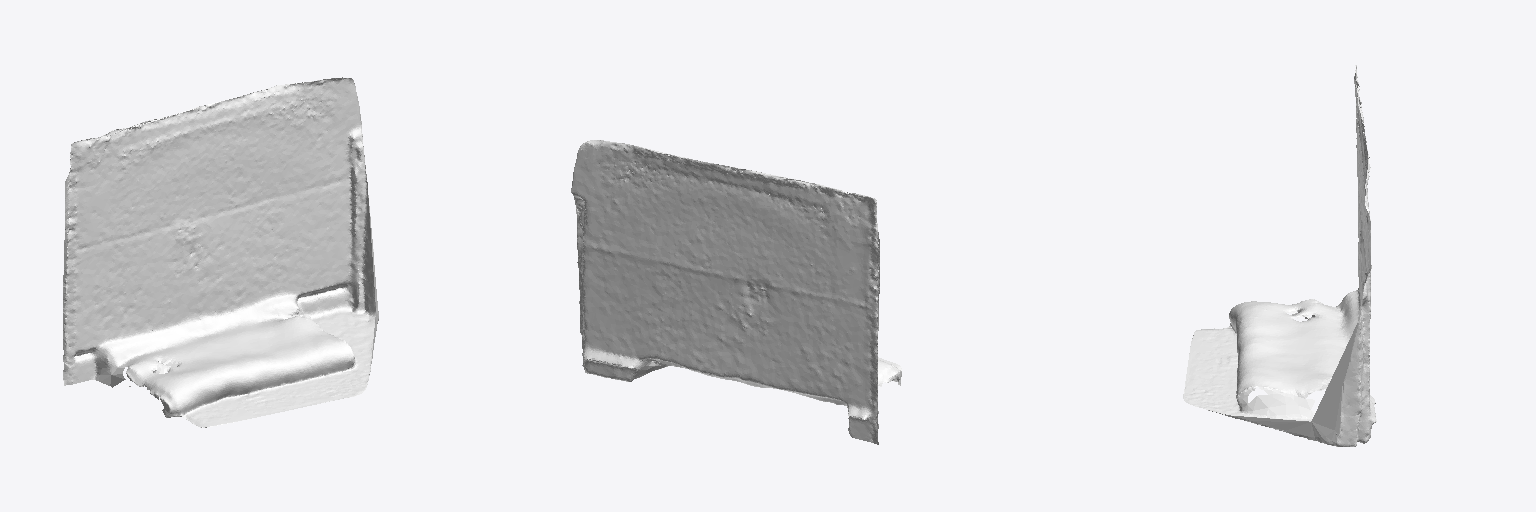
Rendered from Scaniverse_2024_12_15_184824.obj.
3 views of the same model, side by side, from view 1: azimuth 30°, elevation 25°; view 2: azimuth 150°, elevation 25°; view 3: azimuth 270°, elevation 25° (orthographic).
Parts seen in each view (by area): view 1: mesh; view 2: mesh; view 3: mesh.
Part boxes in pixels (left/top/right/bottom): mesh: left=63, top=77, right=378, bottom=427; mesh: left=571, top=140, right=901, bottom=444; mesh: left=1183, top=65, right=1376, bottom=446.
Size of the model in its own units: 0.6633 by 0.513 by 0.3694.